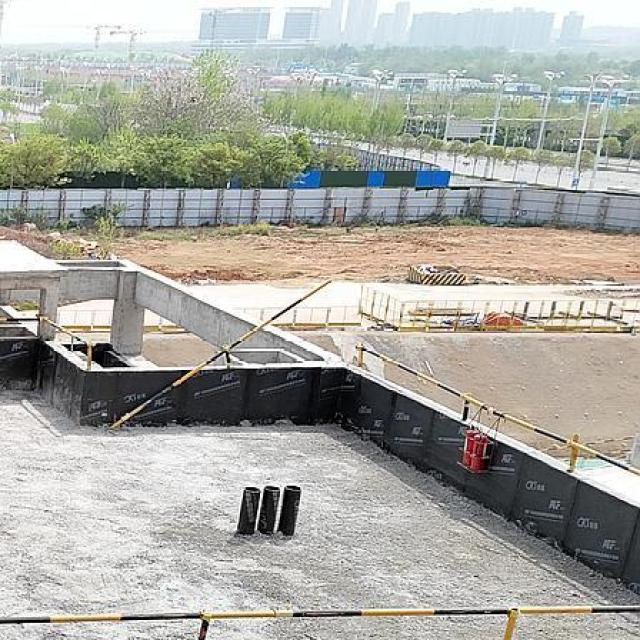edge_guardrail: (354, 340, 640, 476), (110, 277, 333, 430), (0, 603, 640, 640), (0, 313, 94, 369)
